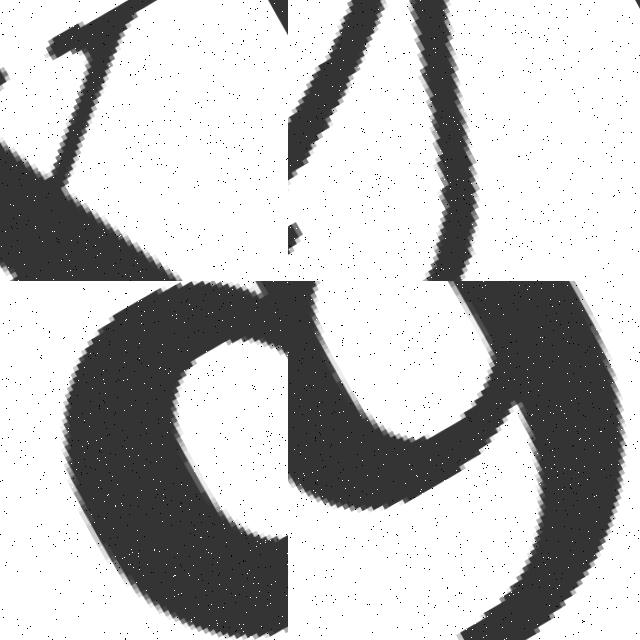9: (288, 281, 640, 640)
D: (0, 281, 288, 640)
X: (0, 0, 288, 281)
Y: (288, 0, 640, 281)
